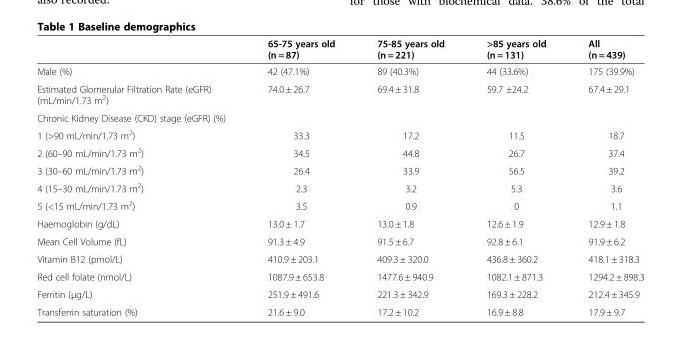table: (36, 37, 643, 317)
table column: (36, 37, 245, 317), (245, 37, 355, 317), (355, 37, 464, 317), (464, 37, 566, 317), (566, 37, 643, 317)
table column header: (36, 37, 643, 62)
table projected row header: (36, 108, 643, 125)
table row: (36, 79, 643, 108), (36, 37, 643, 62), (36, 125, 643, 143), (36, 160, 643, 178), (36, 178, 643, 196), (36, 196, 643, 214), (36, 214, 643, 232), (36, 249, 643, 267), (36, 284, 643, 302), (36, 62, 643, 79), (36, 108, 643, 125), (36, 143, 643, 160), (36, 232, 643, 249), (36, 267, 643, 284), (36, 302, 643, 317)
